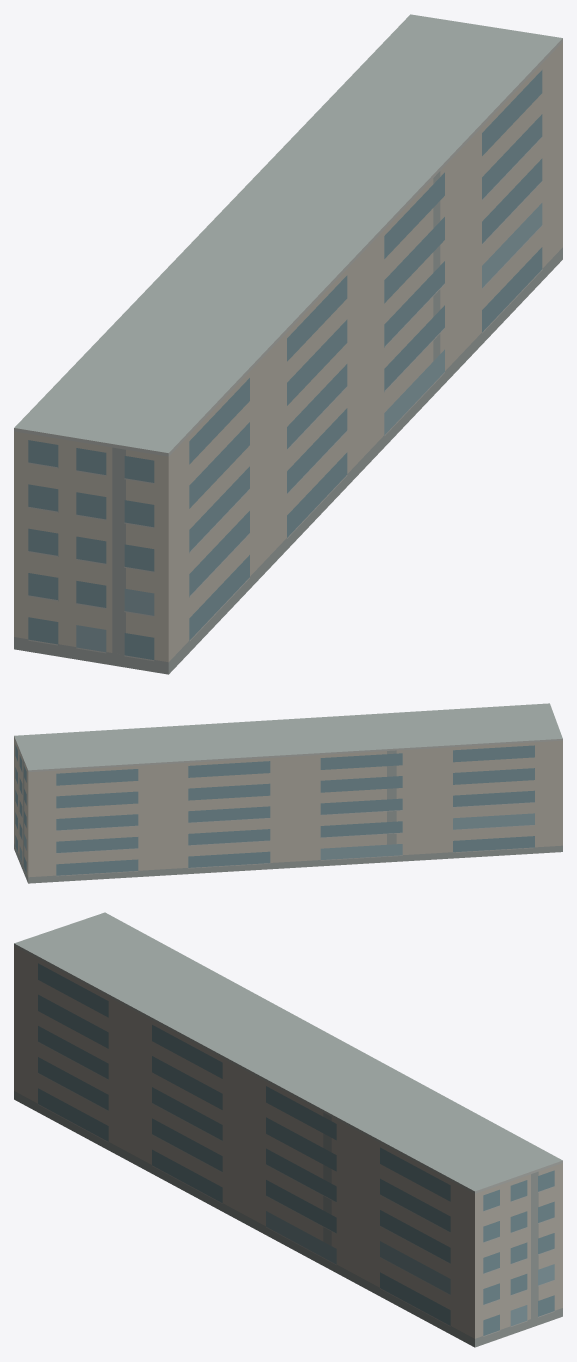
File: residential-e312a0c4-8805-41a1-bae1-4c94af858b9c.glb
3 renders of one model, top to bottom at view 1: azimuth 30°, elevation 25°; view 2: azimuth 150°, elevation 25°; view 3: azimuth 270°, elevation 25°, orthographic. The views are drawn at different scales.
Parts seen in each view (by area): view 1: residential-e312a0c4-8805-41a1-bae1-4c94af858b9c.tmp; view 2: residential-e312a0c4-8805-41a1-bae1-4c94af858b9c.tmp; view 3: residential-e312a0c4-8805-41a1-bae1-4c94af858b9c.tmp.
Part boxes in pixels (x1,y1,x2,y2): residential-e312a0c4-8805-41a1-bae1-4c94af858b9c.tmp: (14,14,562,674); residential-e312a0c4-8805-41a1-bae1-4c94af858b9c.tmp: (14,703,562,883); residential-e312a0c4-8805-41a1-bae1-4c94af858b9c.tmp: (14,912,562,1347).
Size of the model in its own units: 58.47 by 15.25 by 48.6.
